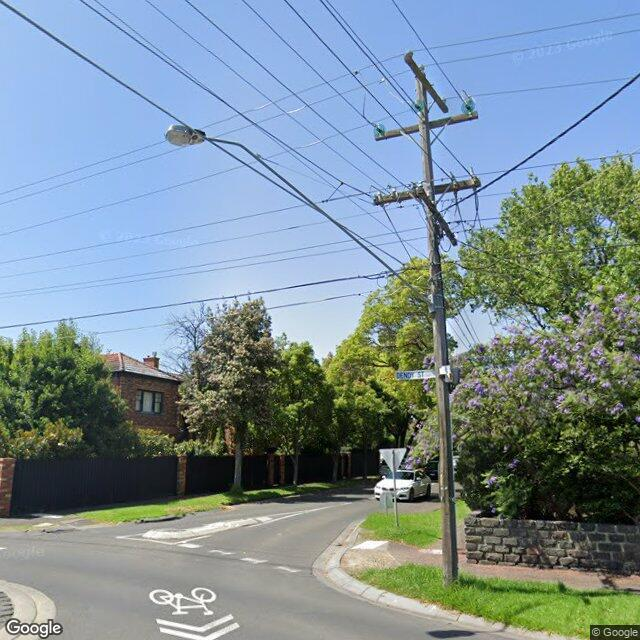HV-transmission: (371, 89, 476, 137)
crossarm: (373, 177, 481, 205), (374, 112, 478, 141), (404, 55, 448, 113), (416, 187, 457, 246)
streetlight: (165, 124, 434, 312)
timber-pole: (415, 65, 459, 582)
